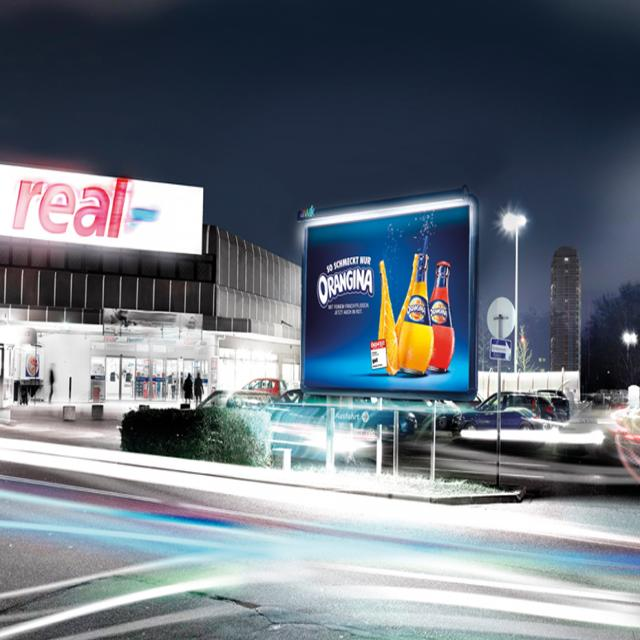Werbetafel frei: (301, 201, 477, 405)
